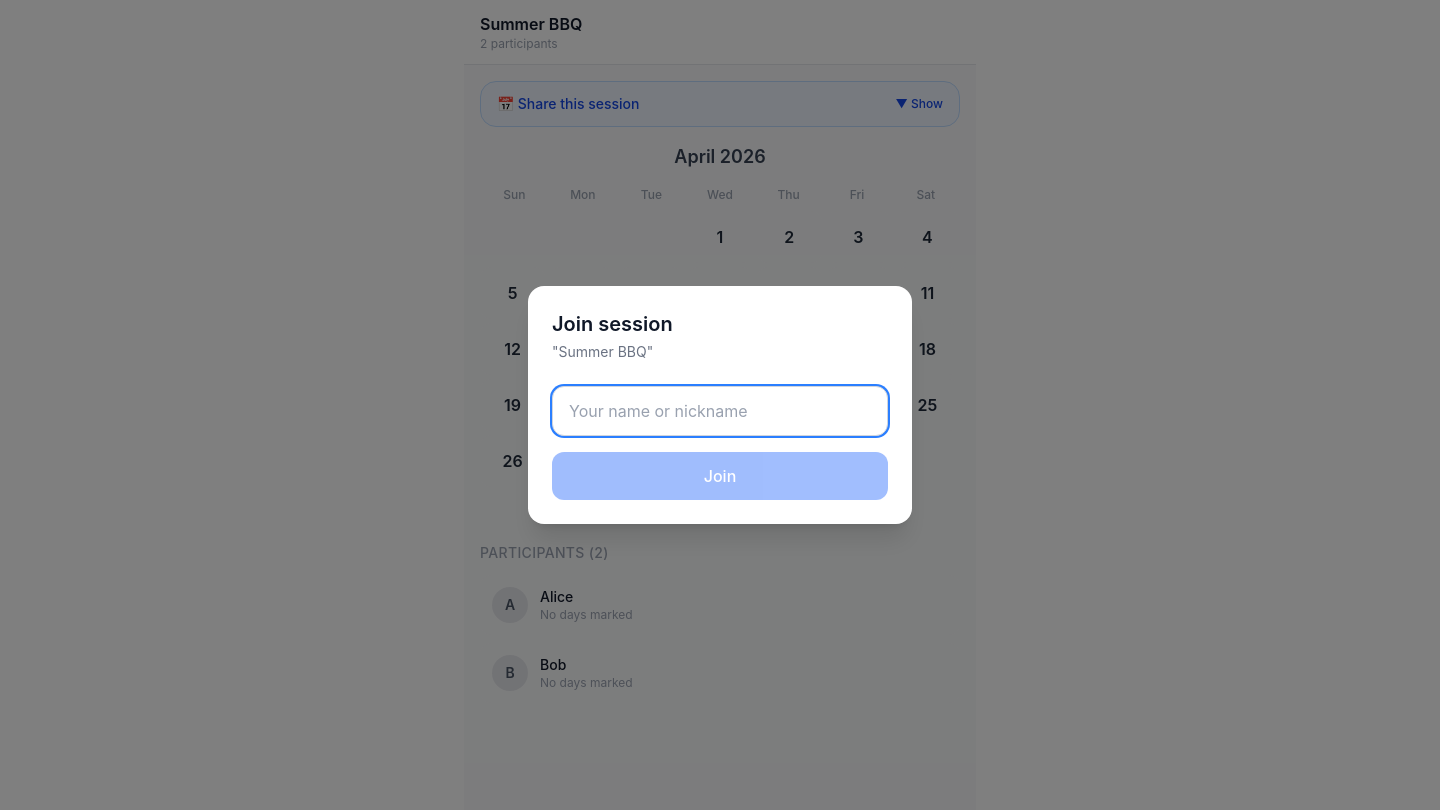
Test case: Session › shows loading state on JoinPrompt while joinSession is pending
The image size is (1440, 810).
Type "Charlie" into the field at [720, 411], box [552, 386, 888, 436]
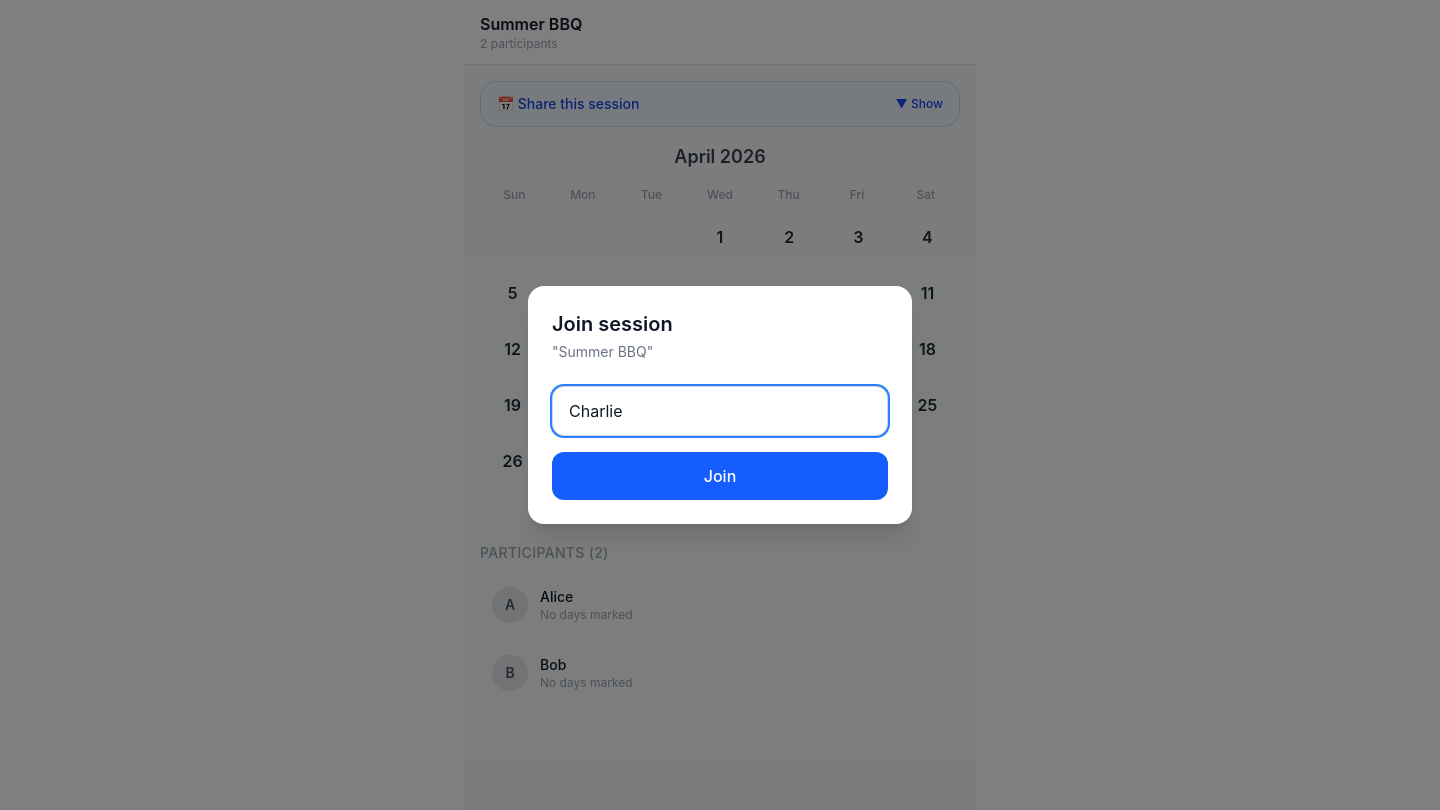
Click the button "Join" at [720, 476], box [552, 452, 888, 500]
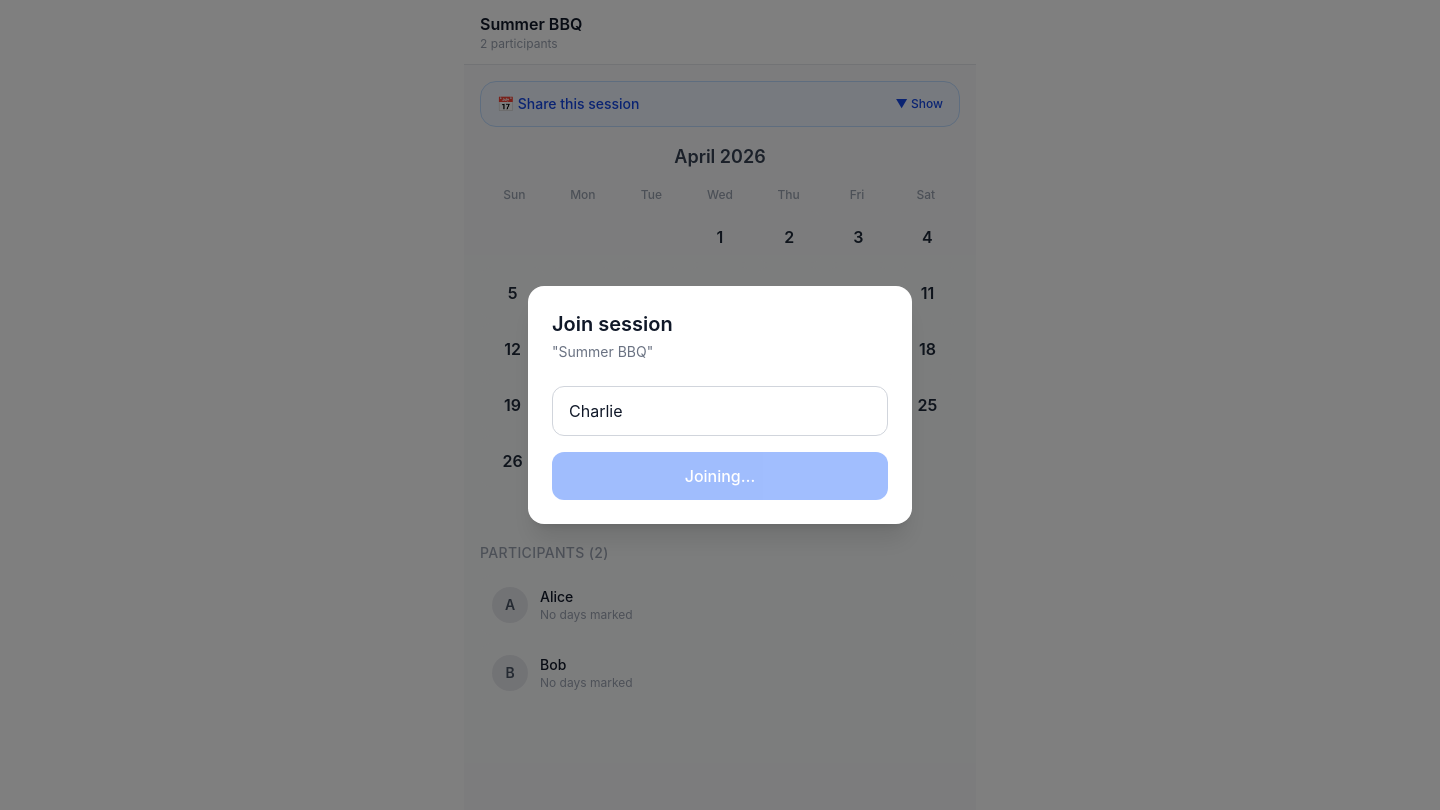
Expected: the button "Joining…" is shown, [552, 452, 888, 500]
